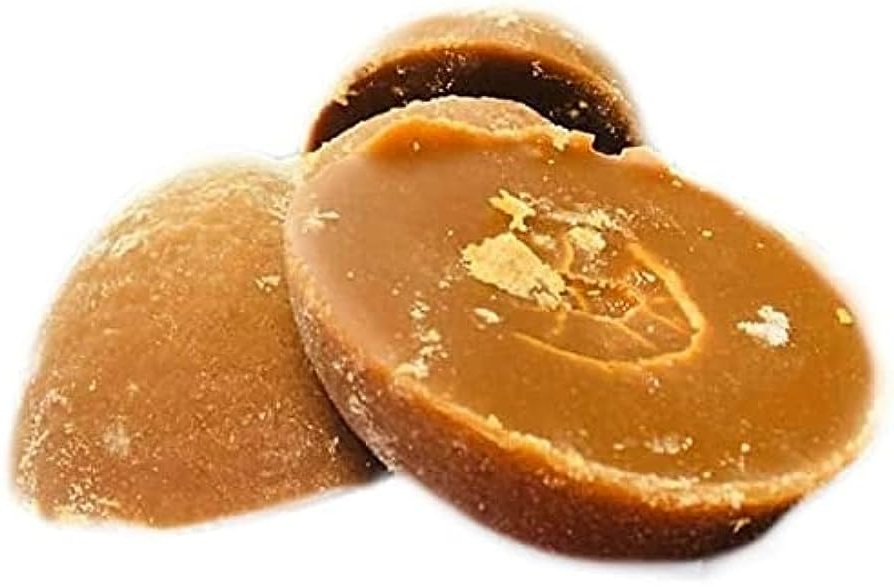hakuru: (278, 94, 885, 567), (8, 149, 384, 531), (304, 2, 660, 154)
